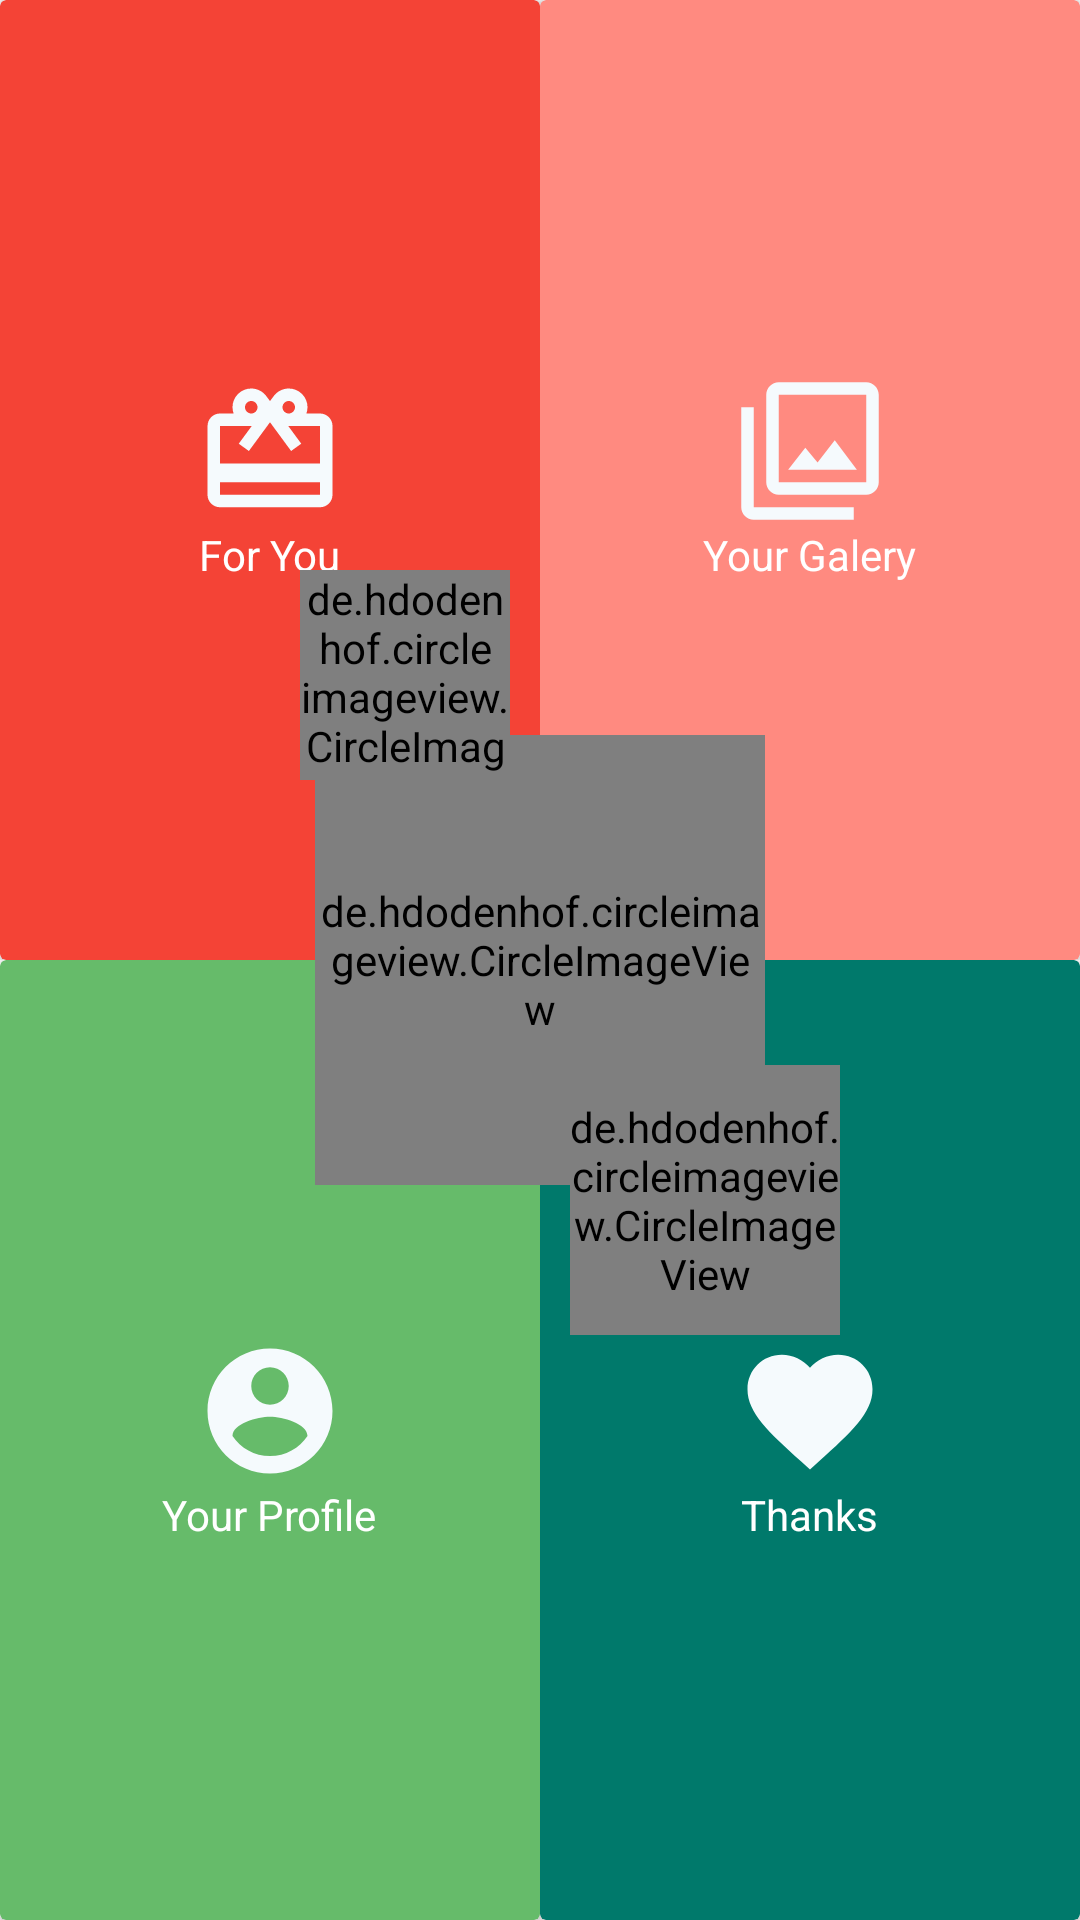

Named icons in this screenshot (1080×1920) and their centers, point (x, y):
account circle: point (270, 1411)
card giftcard: point (270, 448)
favorite: point (810, 1412)
